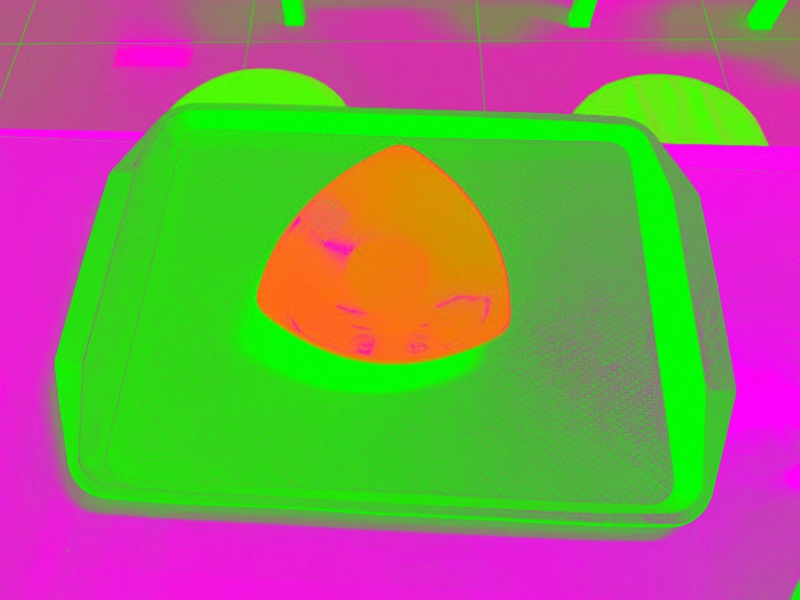dish11: (249, 142, 516, 368)
